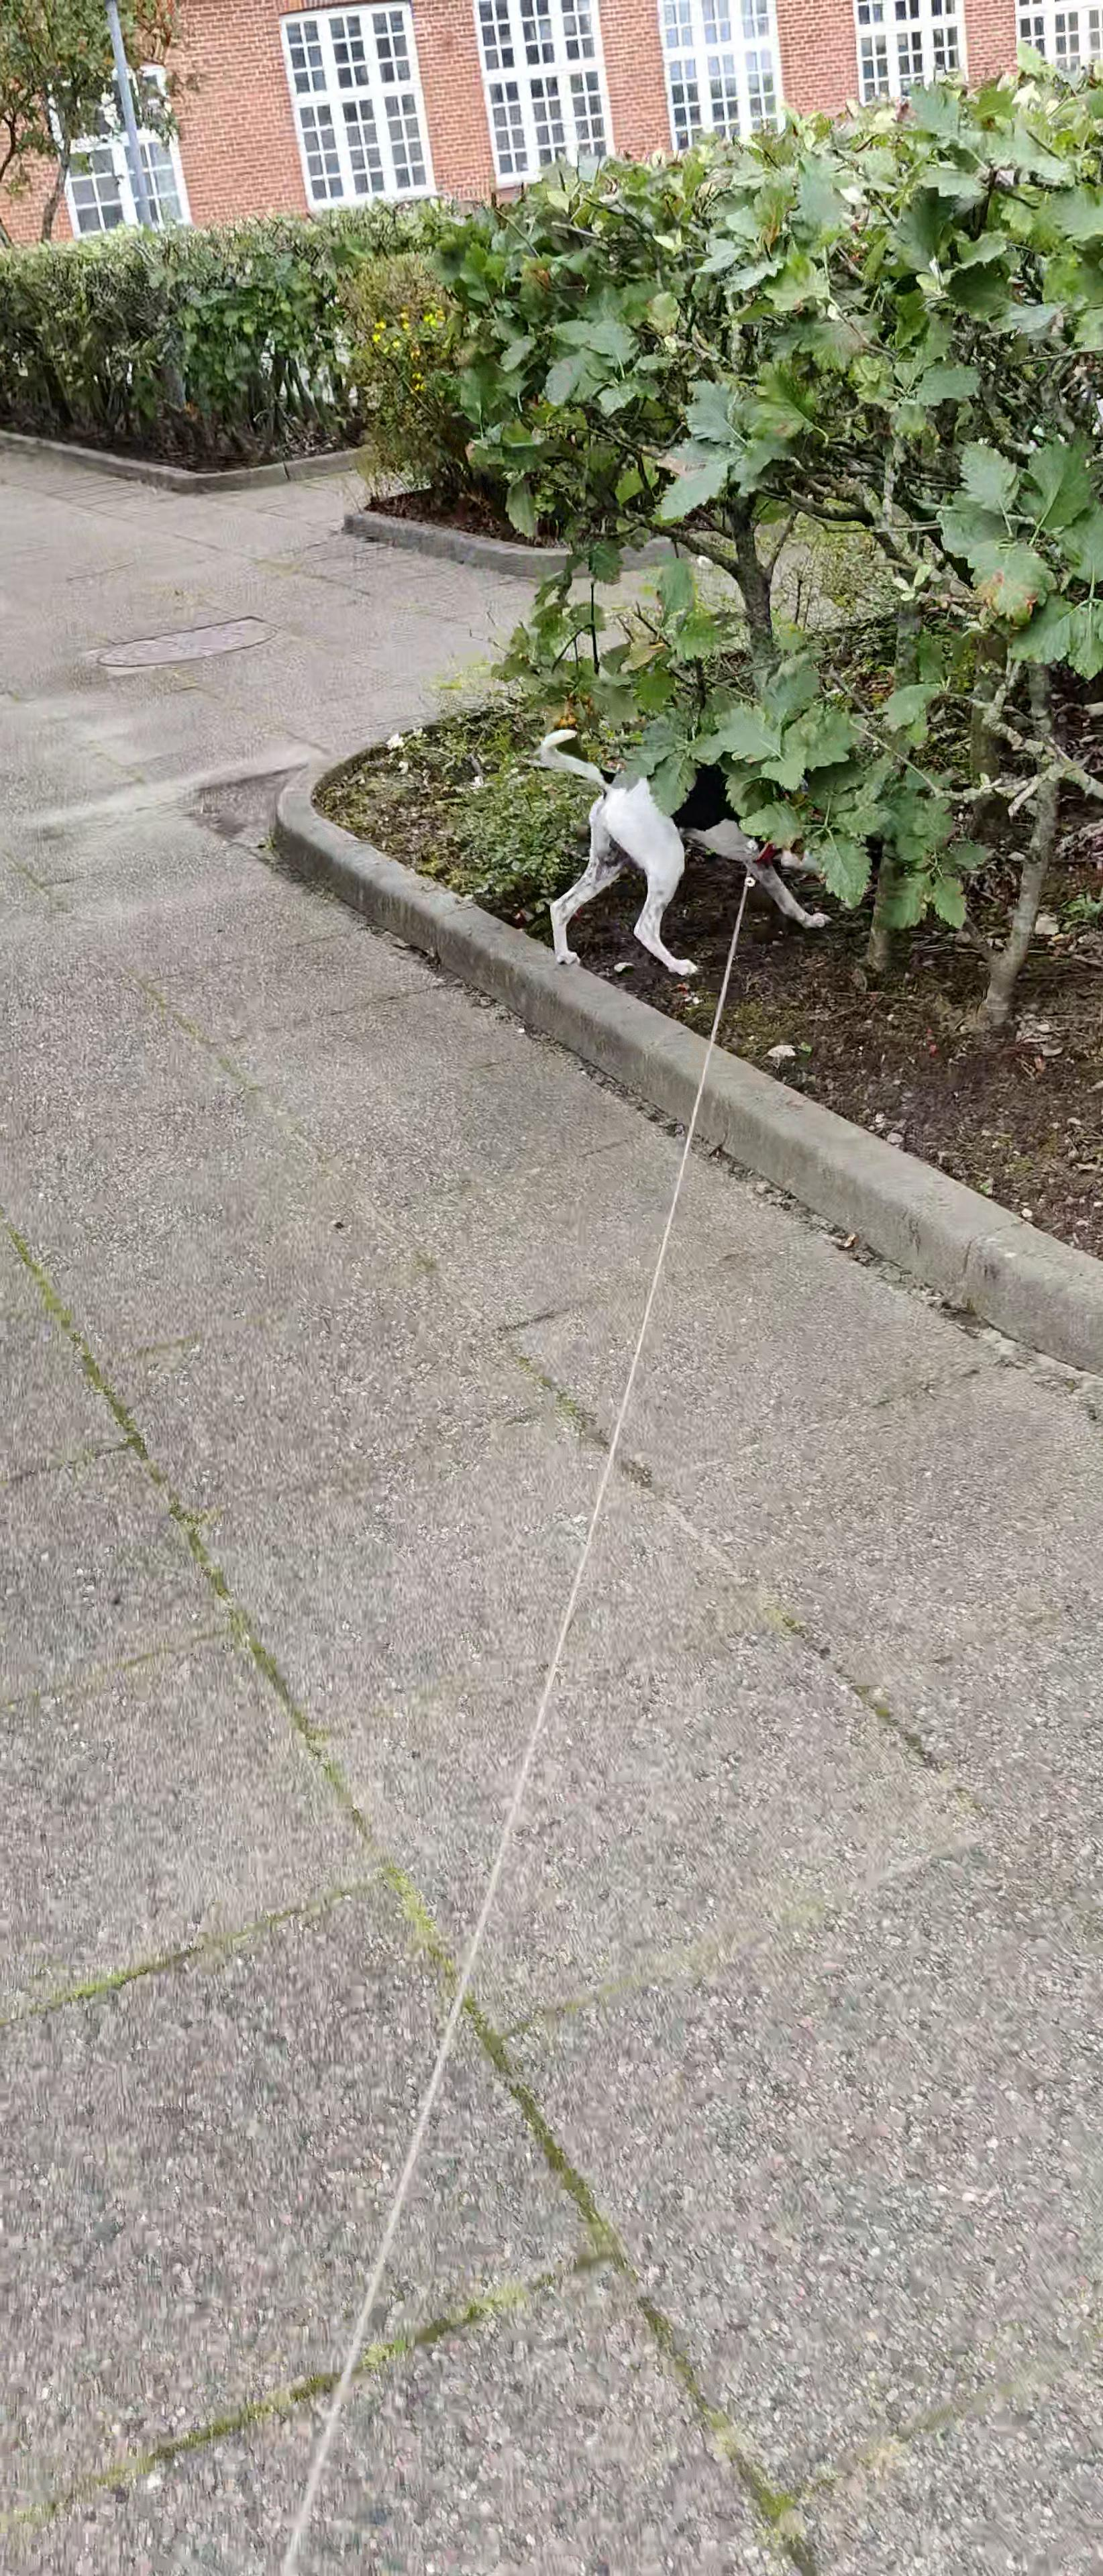Dog: (529, 726, 840, 979)
